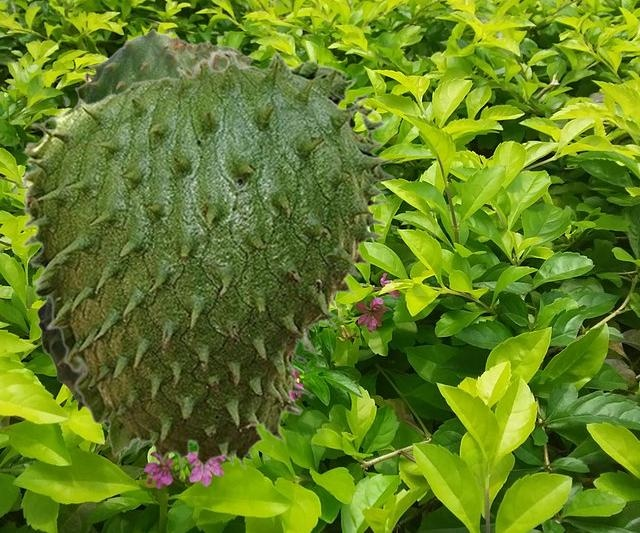guyabano: (21, 48, 396, 477), (34, 27, 254, 428)
